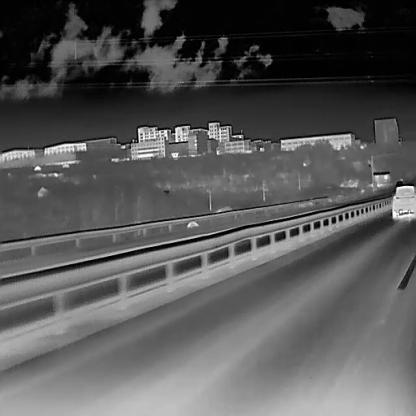car: (392, 184, 416, 218), (394, 180, 402, 186)
